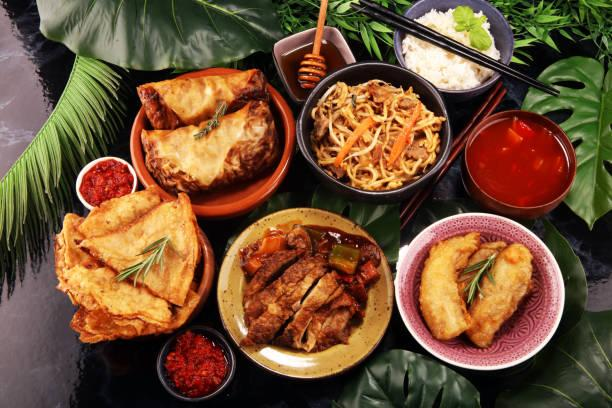Braised Crucian Carp: (216, 205, 391, 379), (393, 210, 565, 372), (129, 68, 290, 219), (297, 61, 449, 204), (57, 201, 211, 337), (457, 106, 575, 218), (393, 0, 510, 102)
